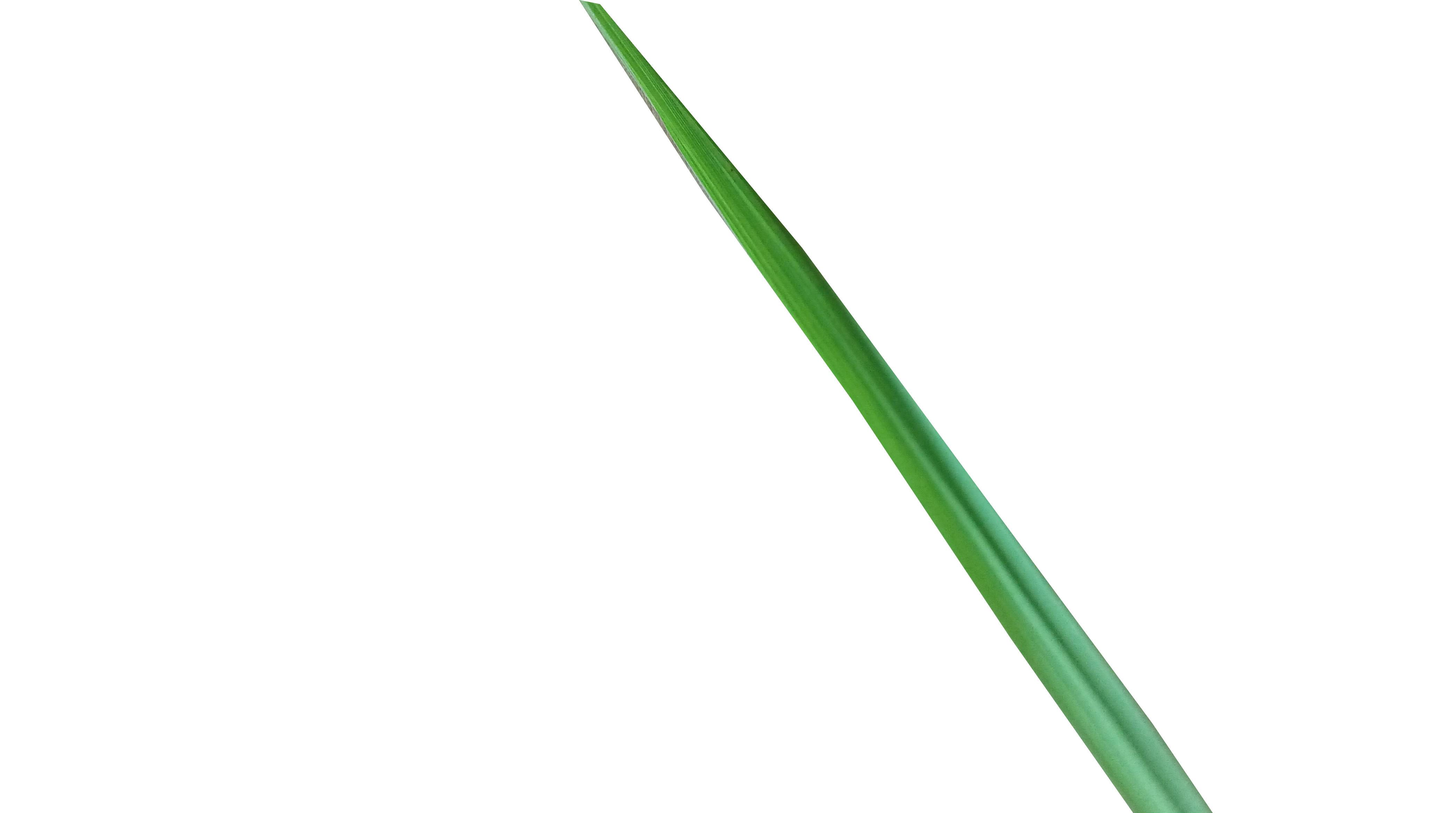Healthy: (581, 0, 1214, 813)
